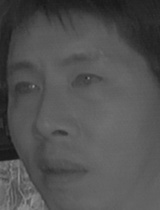eye: (69, 72, 104, 93), (12, 78, 42, 97)
mouth: (35, 156, 90, 184)
